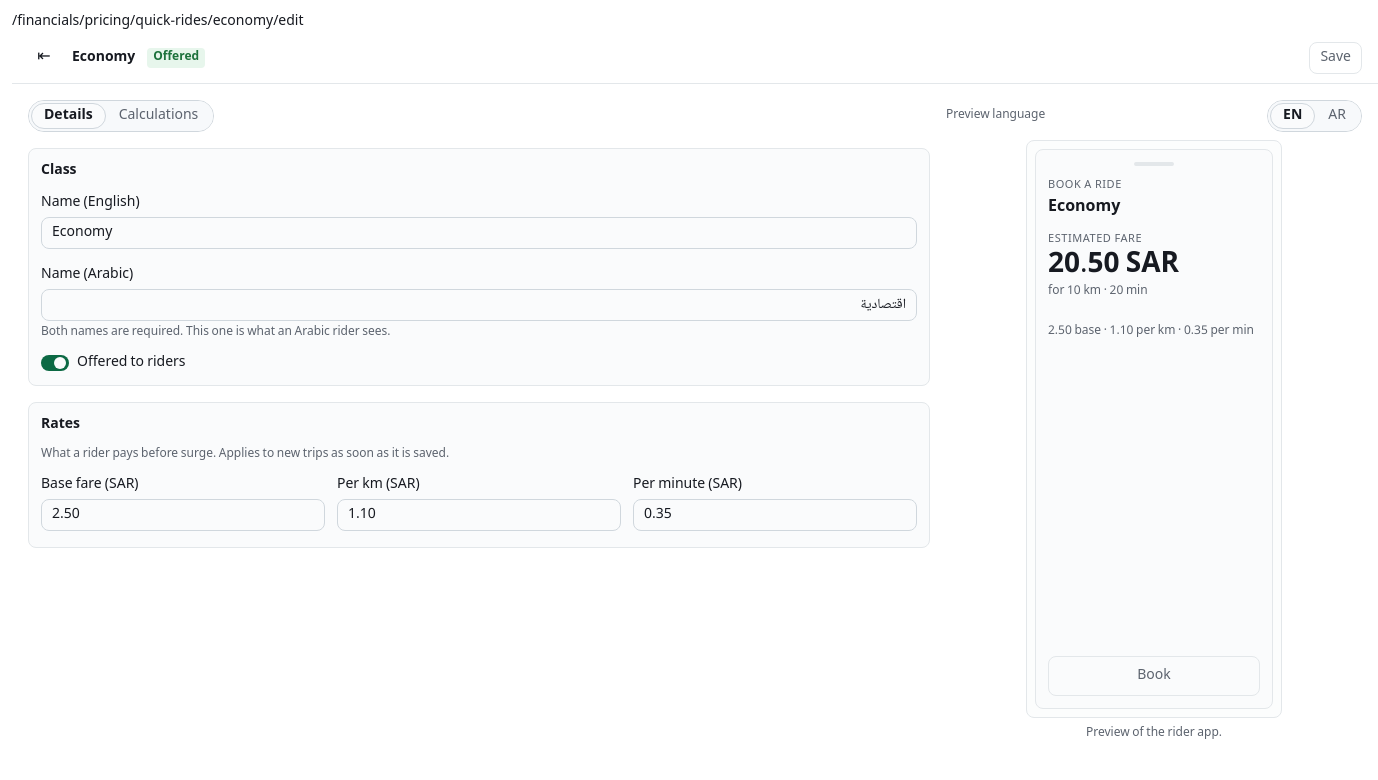
Test: §12 — a quick-ride class is edited in the plan editor’s shape › a blank name blocks Save with the message on the input
Check: the heading "Class" is shown, box [41,159,77,183]
Clear the field labelled "Name (English)" at (479, 233), box [41,217,917,249]
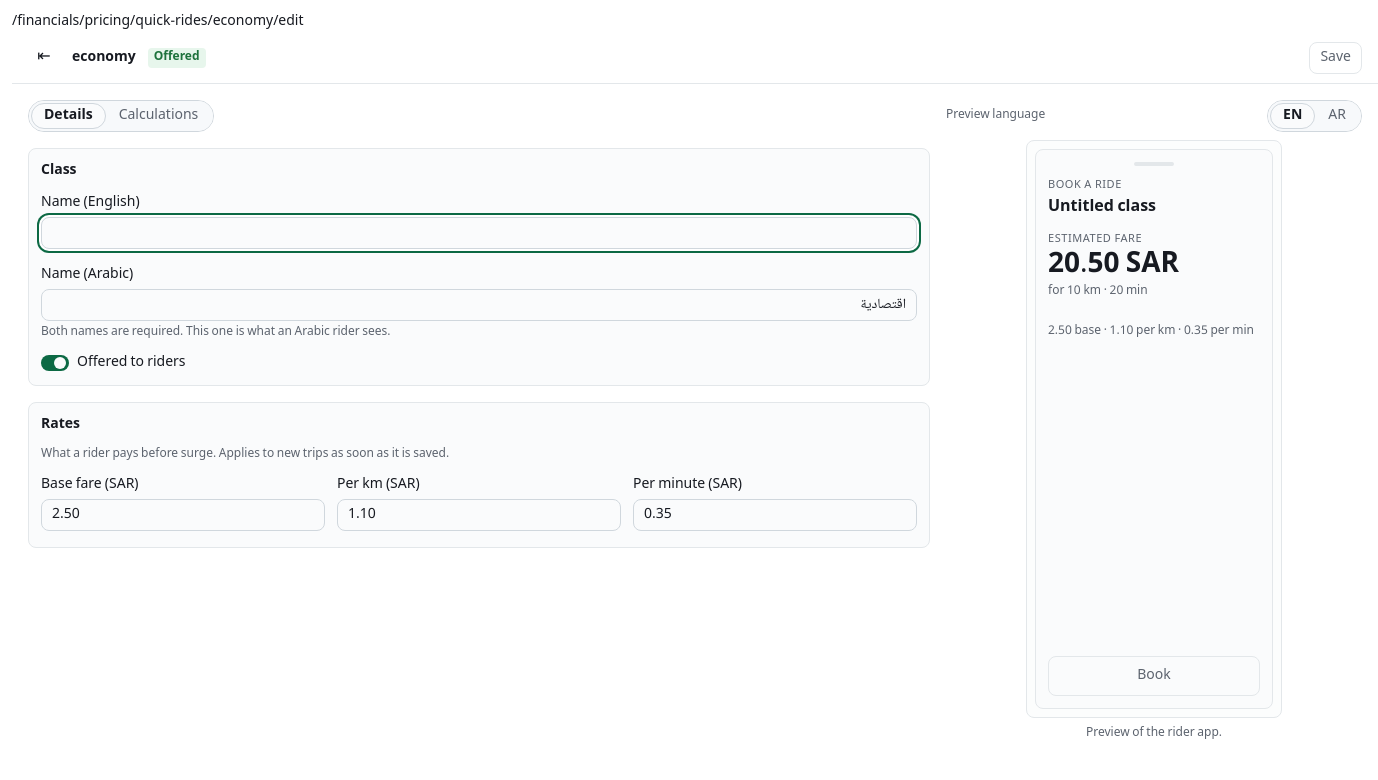
Press Tab
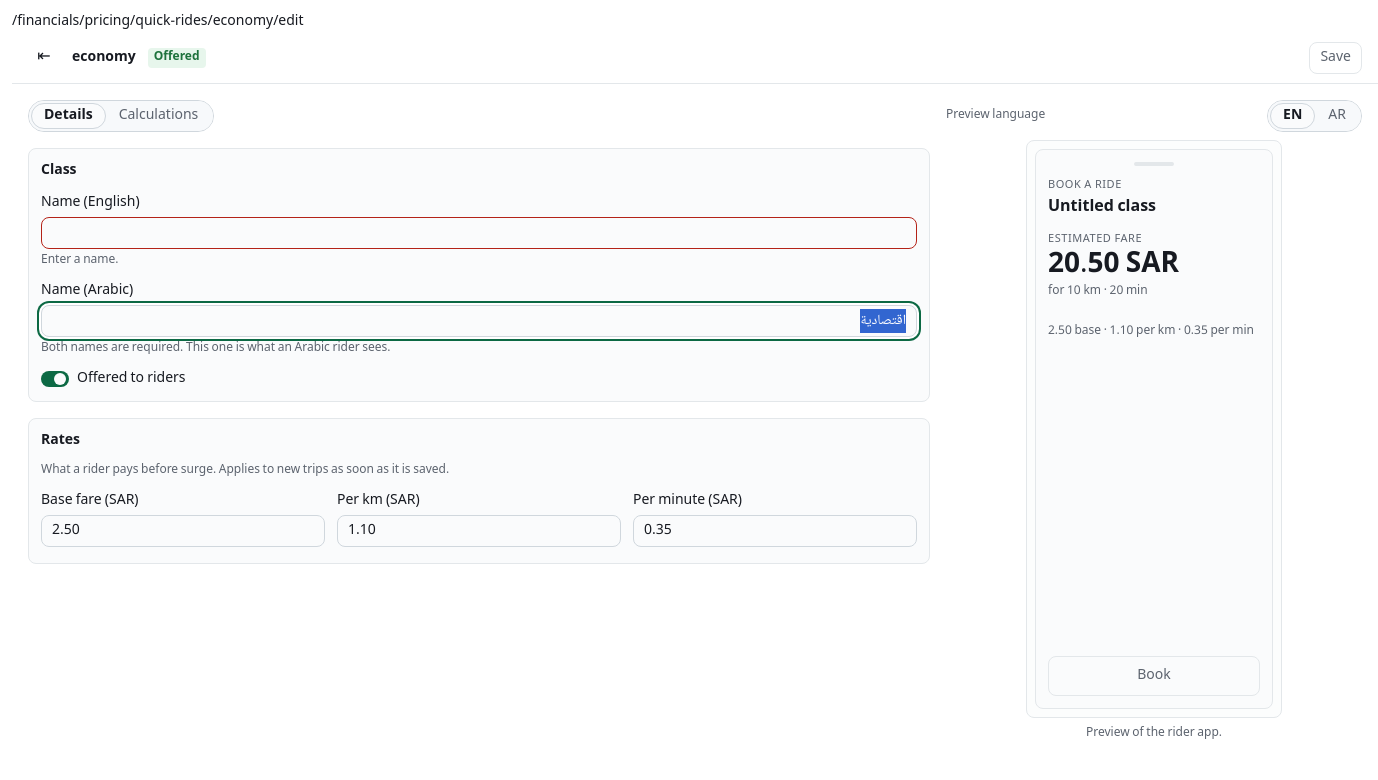
Check: the button "Save" is disabled, box [1309,42,1362,74]
Check: the text "Enter a name." is shown, box [41,250,118,271]
